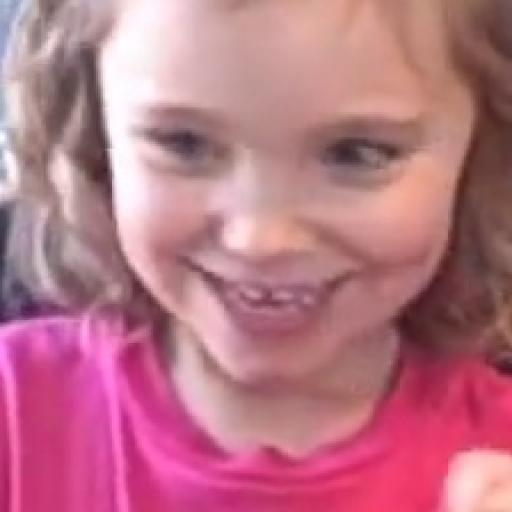Autism: (0, 0, 512, 425)
